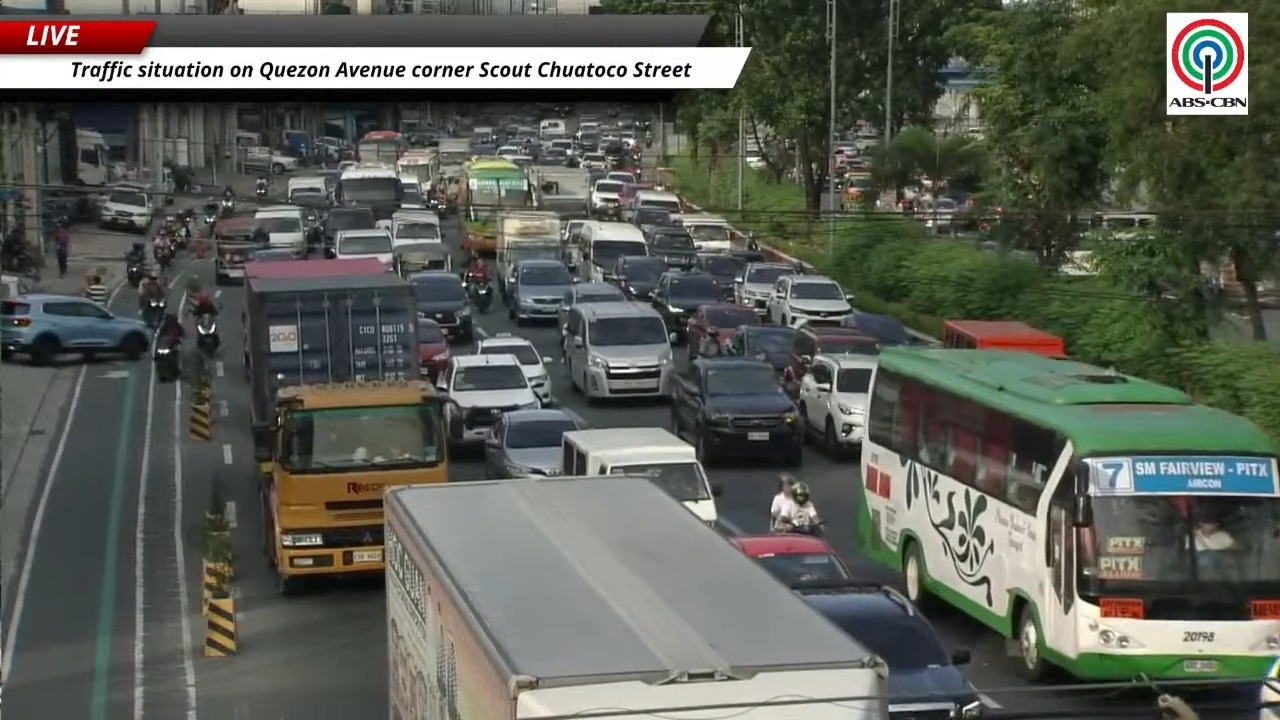bus: (856, 347, 1279, 681), (941, 320, 1066, 357), (466, 158, 533, 221), (356, 130, 409, 167), (76, 129, 110, 186)
car: (797, 581, 983, 719), (670, 358, 802, 465), (0, 294, 150, 364), (436, 354, 540, 444), (797, 355, 876, 457), (485, 408, 586, 478), (729, 533, 852, 588), (474, 333, 551, 406), (785, 326, 880, 382), (650, 271, 721, 341), (406, 271, 473, 341), (505, 259, 574, 325), (558, 282, 626, 348), (766, 275, 851, 326), (686, 303, 760, 359), (727, 325, 796, 375), (735, 262, 794, 315), (842, 310, 921, 345), (99, 185, 157, 232), (613, 255, 669, 300), (694, 252, 744, 301), (321, 208, 375, 252), (642, 226, 696, 268), (417, 318, 449, 381), (245, 247, 297, 261)
motorcycle: (153, 339, 180, 382), (196, 314, 220, 359), (468, 281, 492, 313), (142, 297, 166, 328), (773, 521, 822, 536), (171, 220, 191, 249), (126, 262, 146, 289), (154, 245, 174, 272), (203, 199, 220, 225), (219, 197, 234, 215), (256, 185, 268, 200), (204, 211, 216, 225)
truck: (385, 475, 888, 719), (246, 260, 447, 593), (495, 210, 559, 296), (212, 211, 256, 285), (534, 167, 589, 219)
